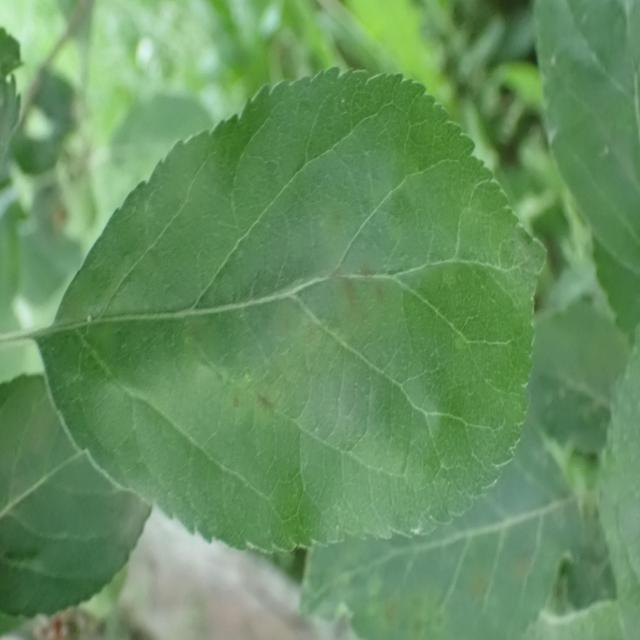scab: (112, 200, 564, 507)
